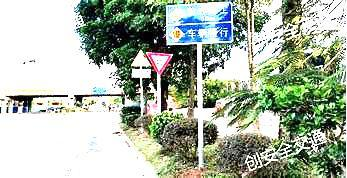sign: (167, 4, 233, 43)
